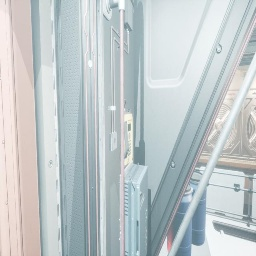EmergencyPhone ,: (120, 99, 133, 167)
